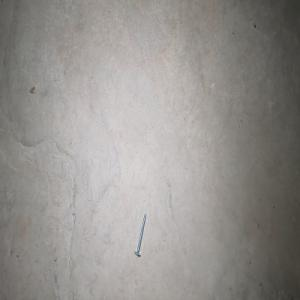Bolt: (134, 212, 146, 256)
